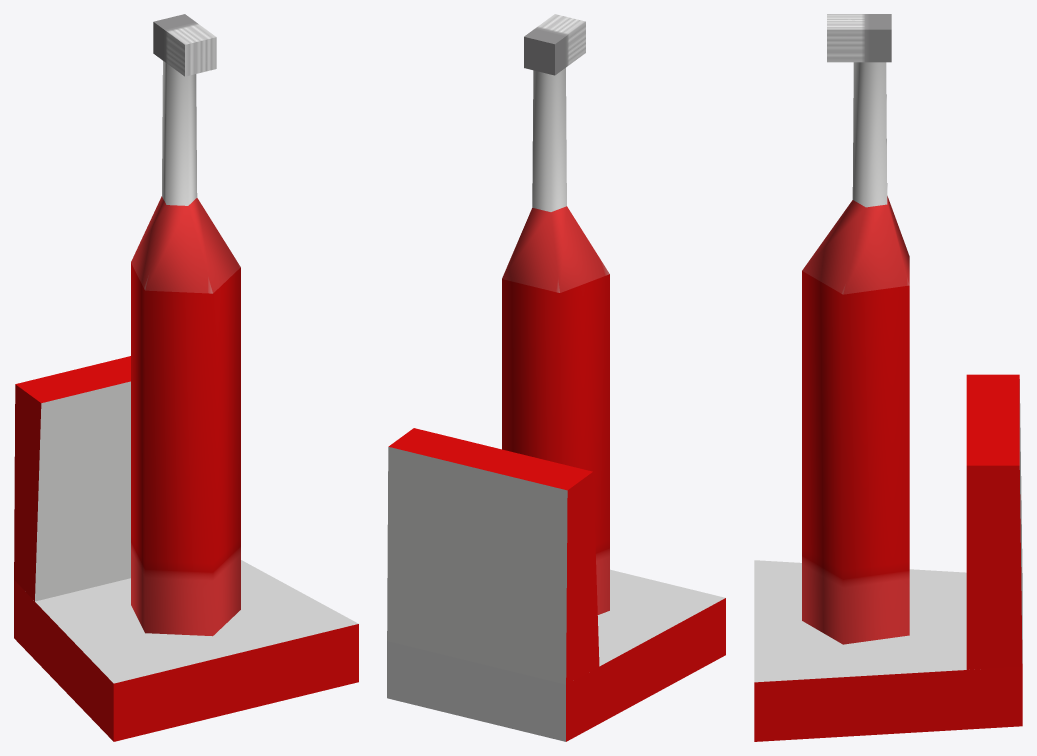
File: Electric_Toothbrush.fbx
The picture shows the model from 3 angles, left to right: view 1: azimuth 30°, elevation 25°; view 2: azimuth 150°, elevation 25°; view 3: azimuth 270°, elevation 25°; orthographic projection. The views are drawn at different scales.
Visible parts, largest first — view 1: Electric_Toothbrush_1; view 2: Electric_Toothbrush_1; view 3: Electric_Toothbrush_1.
Boxes of the visible parts, x1,y1,x2,y2 form: Electric_Toothbrush_1: (14, 14, 358, 741); Electric_Toothbrush_1: (387, 14, 725, 741); Electric_Toothbrush_1: (754, 14, 1022, 741).
Size of the model in its own units: 8.07 by 20.3 by 7.48.
